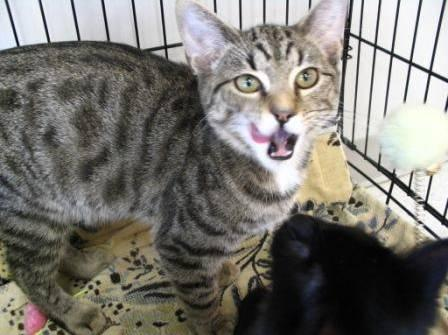cat: (0, 0, 347, 334)
